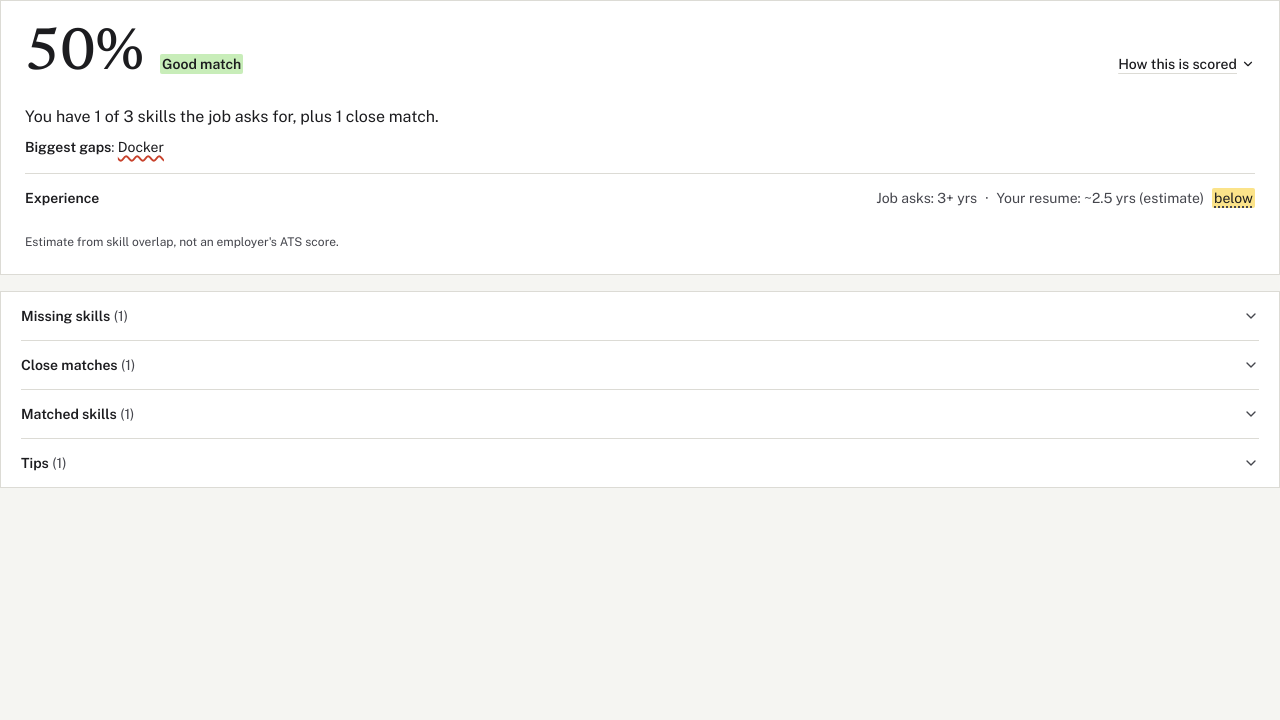
Scenario: marking a missing skill recomputes the score and the summary
Click the button "Missing skills (1)" at (66, 316), box [21,292,1259,340]
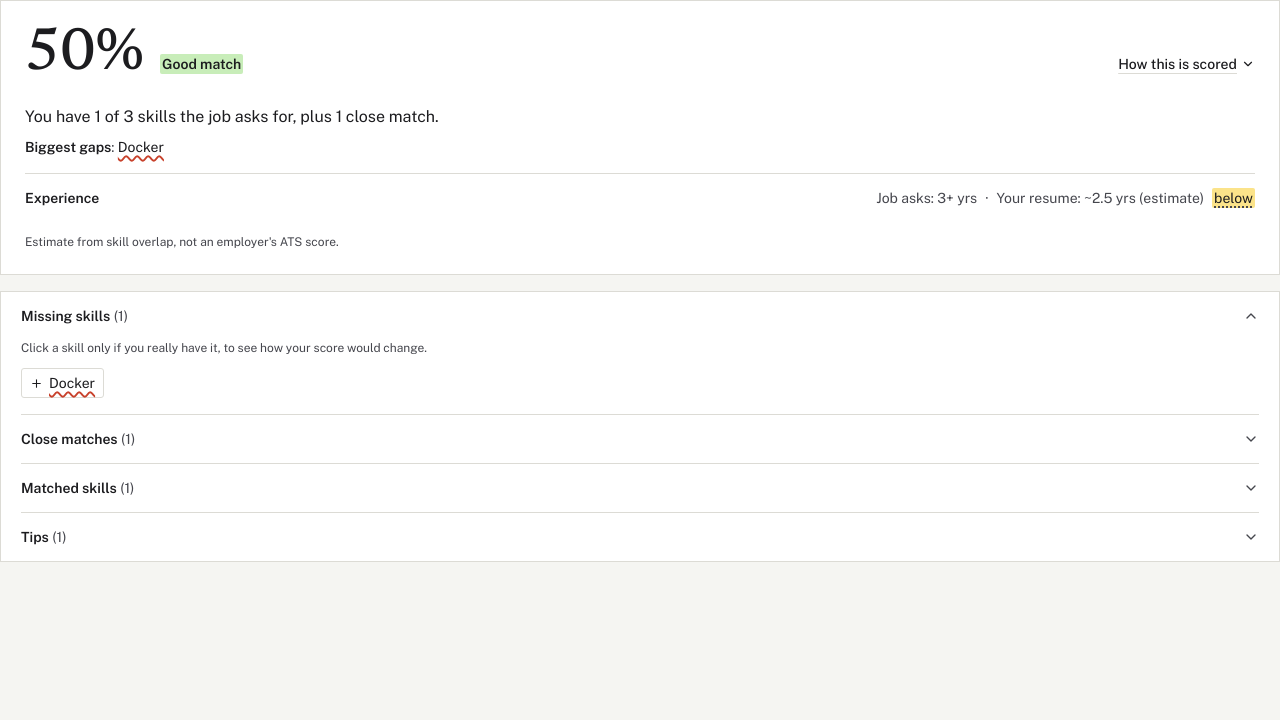
Click the button "Docker" at (63, 383), box [21,368,104,398]
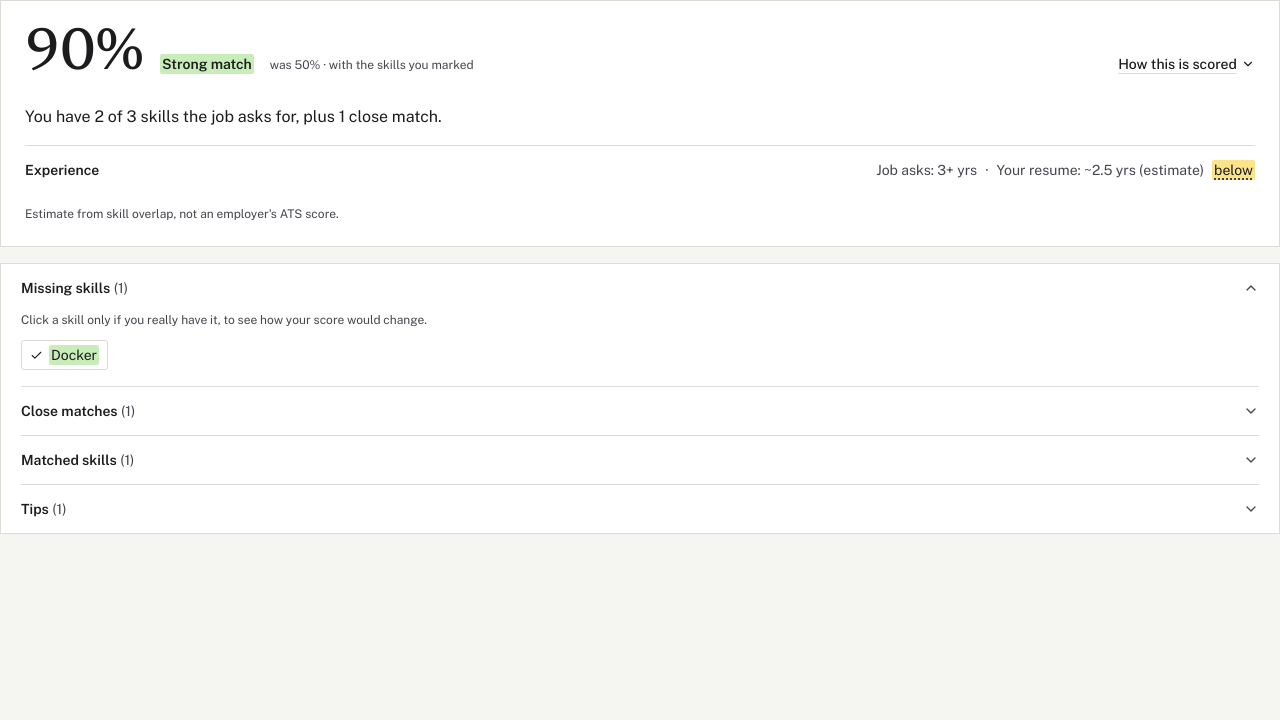
Check: the text "90%" is shown, box [25,25,144,85]
Check: the text "was 50% · with the skills you marked" is shown, box [270,57,474,73]
Check: the text "You have 2 of 3 skills the job asks for, plus 1 close match." is shown, box [25,107,442,126]
